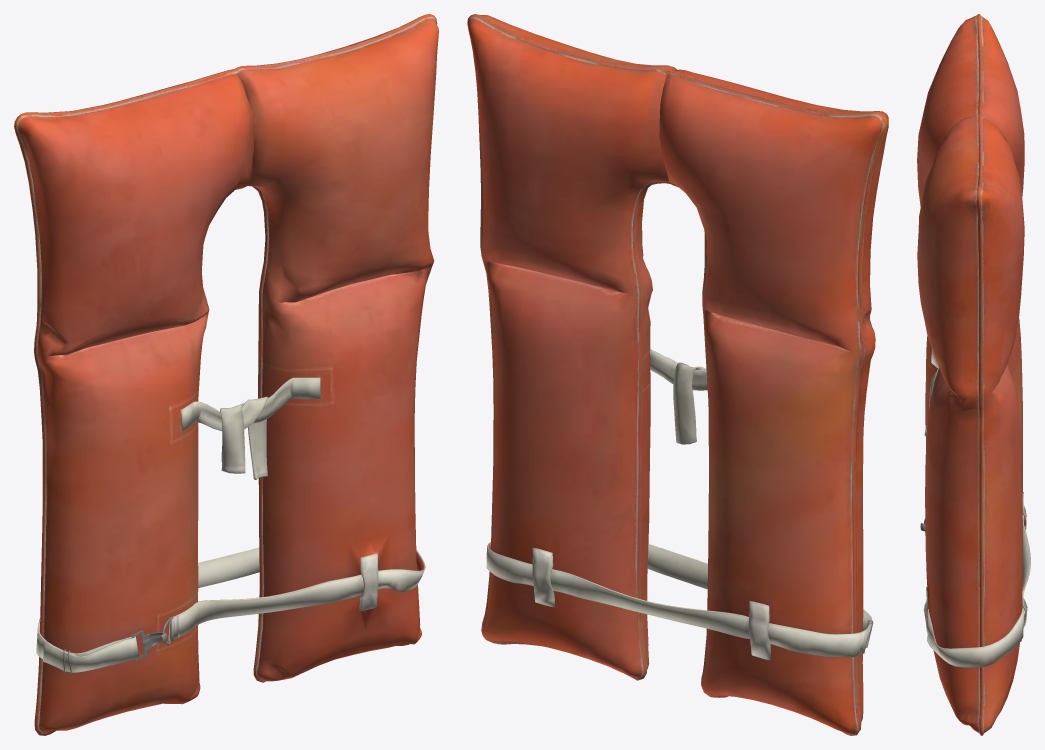
Rendered from life_jacket.glb.
3 renders of one model, left to right at view 1: azimuth 30°, elevation 25°; view 2: azimuth 150°, elevation 25°; view 3: azimuth 270°, elevation 25°, orthographic. The views are drawn at different scales.
Visible parts, largest first — view 1: life_jacket; view 2: life_jacket; view 3: life_jacket.
Part boxes in pixels (x1,y1,x2,y2): life_jacket: (14,14,438,735); life_jacket: (467,14,888,735); life_jacket: (917,14,1030,735).
Bounding box in the file's own units: 0.6956 × 0.9923 × 0.184.
Materials: 1 (1 with a texture image).
